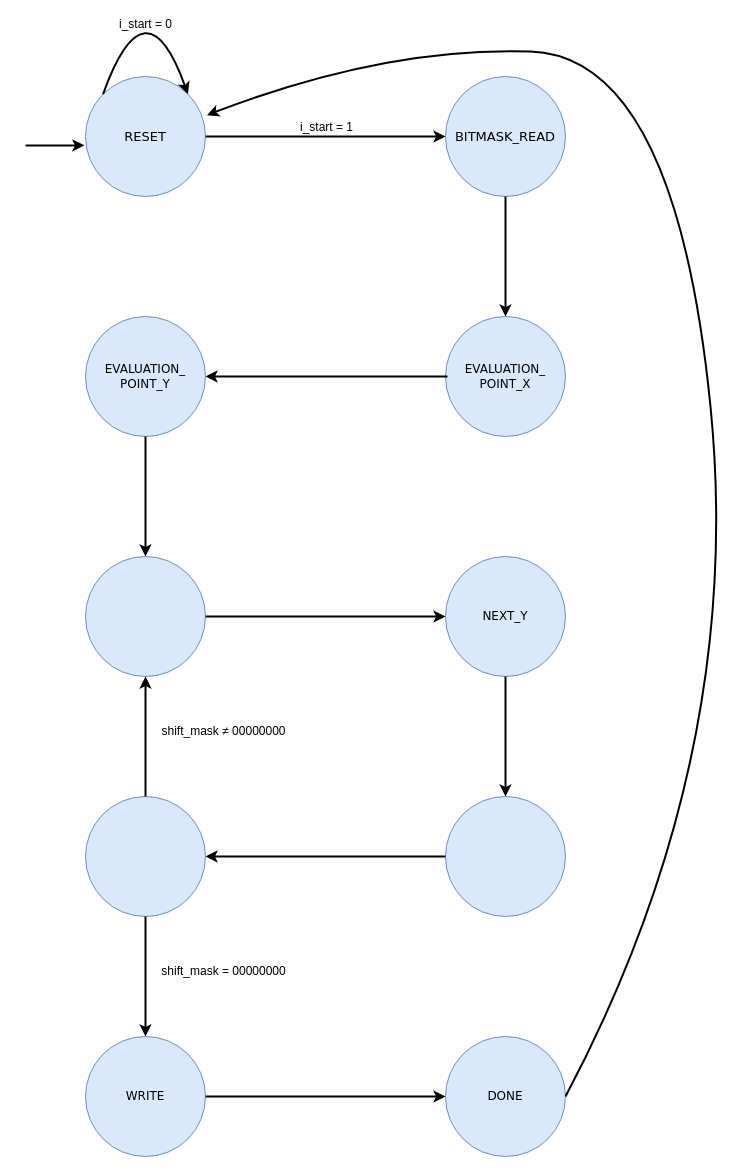
Image size: 734x1174. Some labels were removed from this diagram. The box of each missing label's shape, as (x1, y1, x2, y2) in pixels:
CALC_DISTANCE: (444, 796, 566, 916)
CHECK_DISTANCE: (84, 796, 206, 916)
NEXT_X: (84, 556, 206, 676)
